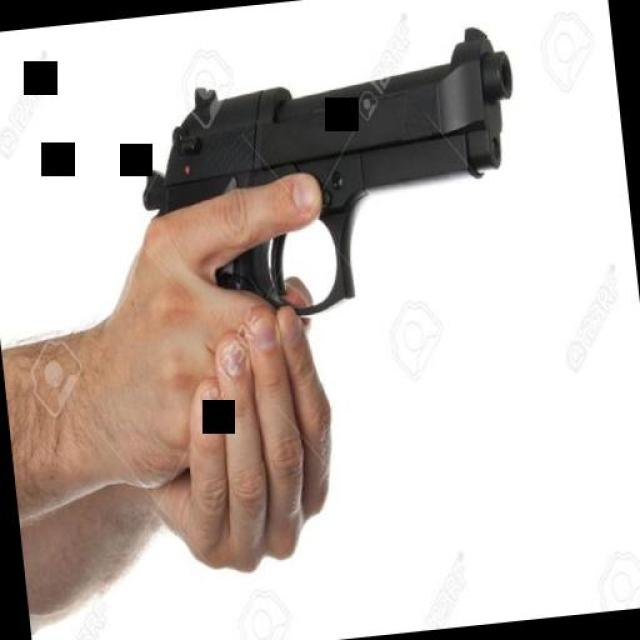gun: (117, 18, 535, 348)
